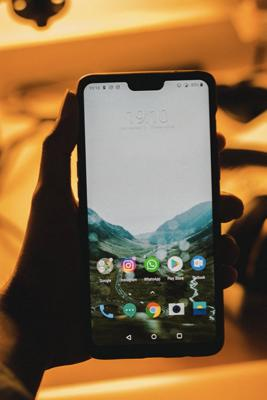cell-phone: (74, 67, 233, 363)
